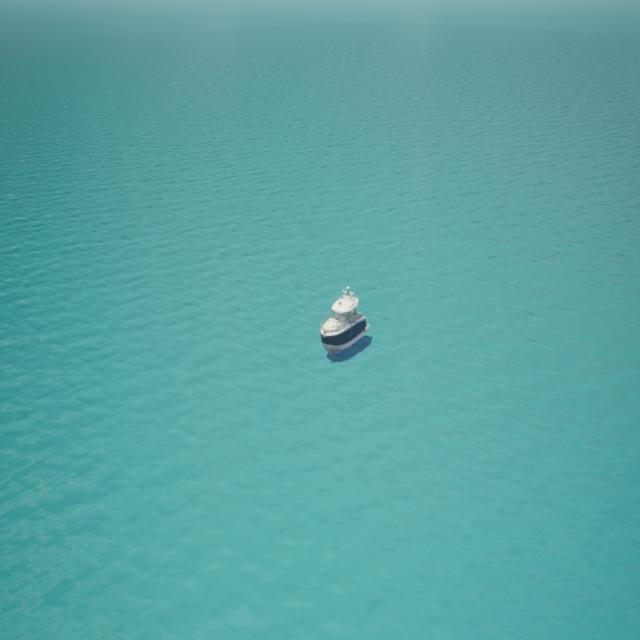ship: (317, 272, 371, 363)
